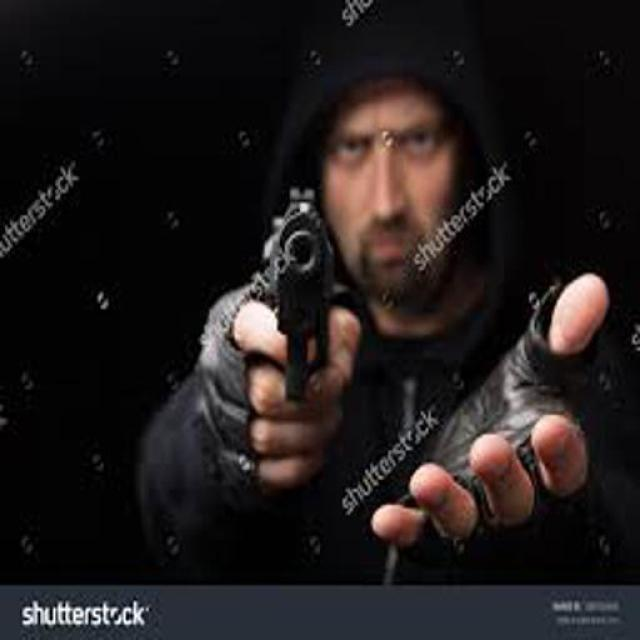pistol: (264, 160, 353, 405)
